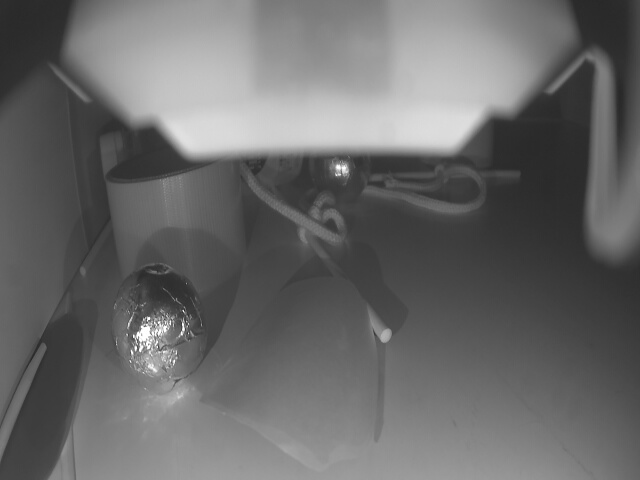Live: (107, 266, 211, 384), (306, 137, 375, 201)
